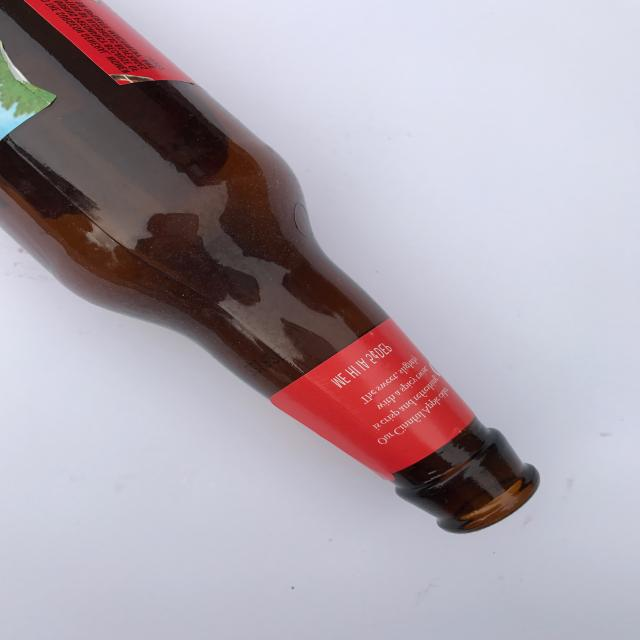glass: (0, 0, 542, 534)
